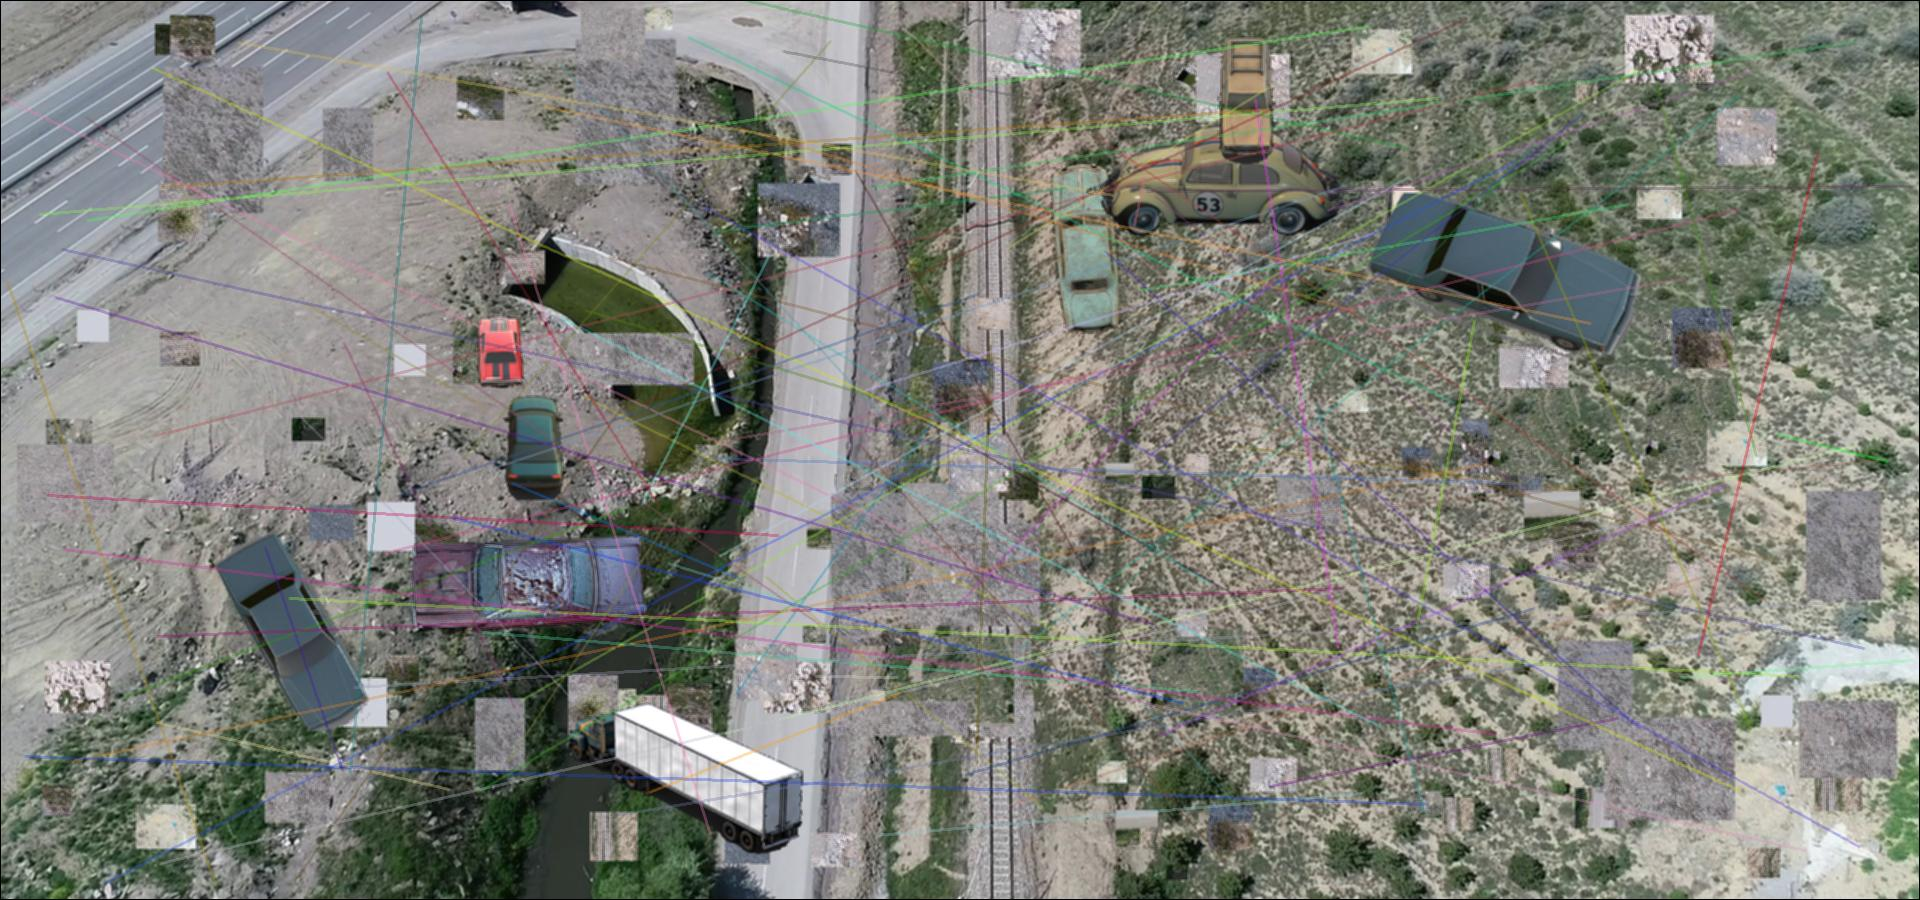arac: (1359, 193, 1647, 358), (556, 683, 804, 855), (1086, 119, 1356, 246), (216, 531, 371, 731), (407, 533, 647, 636), (1049, 160, 1131, 340), (448, 546, 584, 631), (1216, 34, 1280, 164), (498, 393, 568, 500), (1380, 185, 1427, 274), (473, 315, 525, 389)
